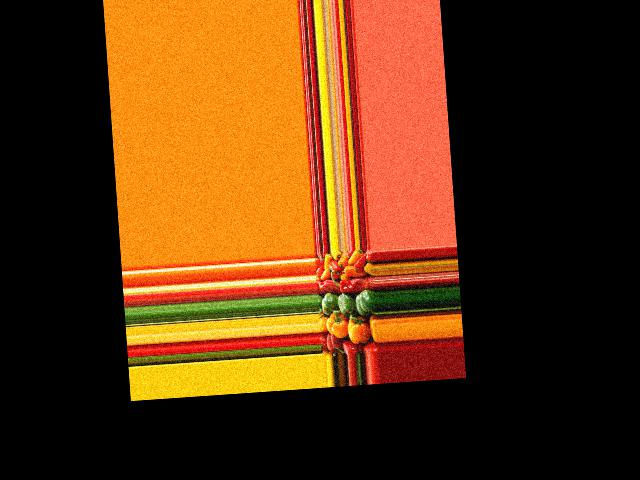bell_pepper: (352, 252, 368, 272)
